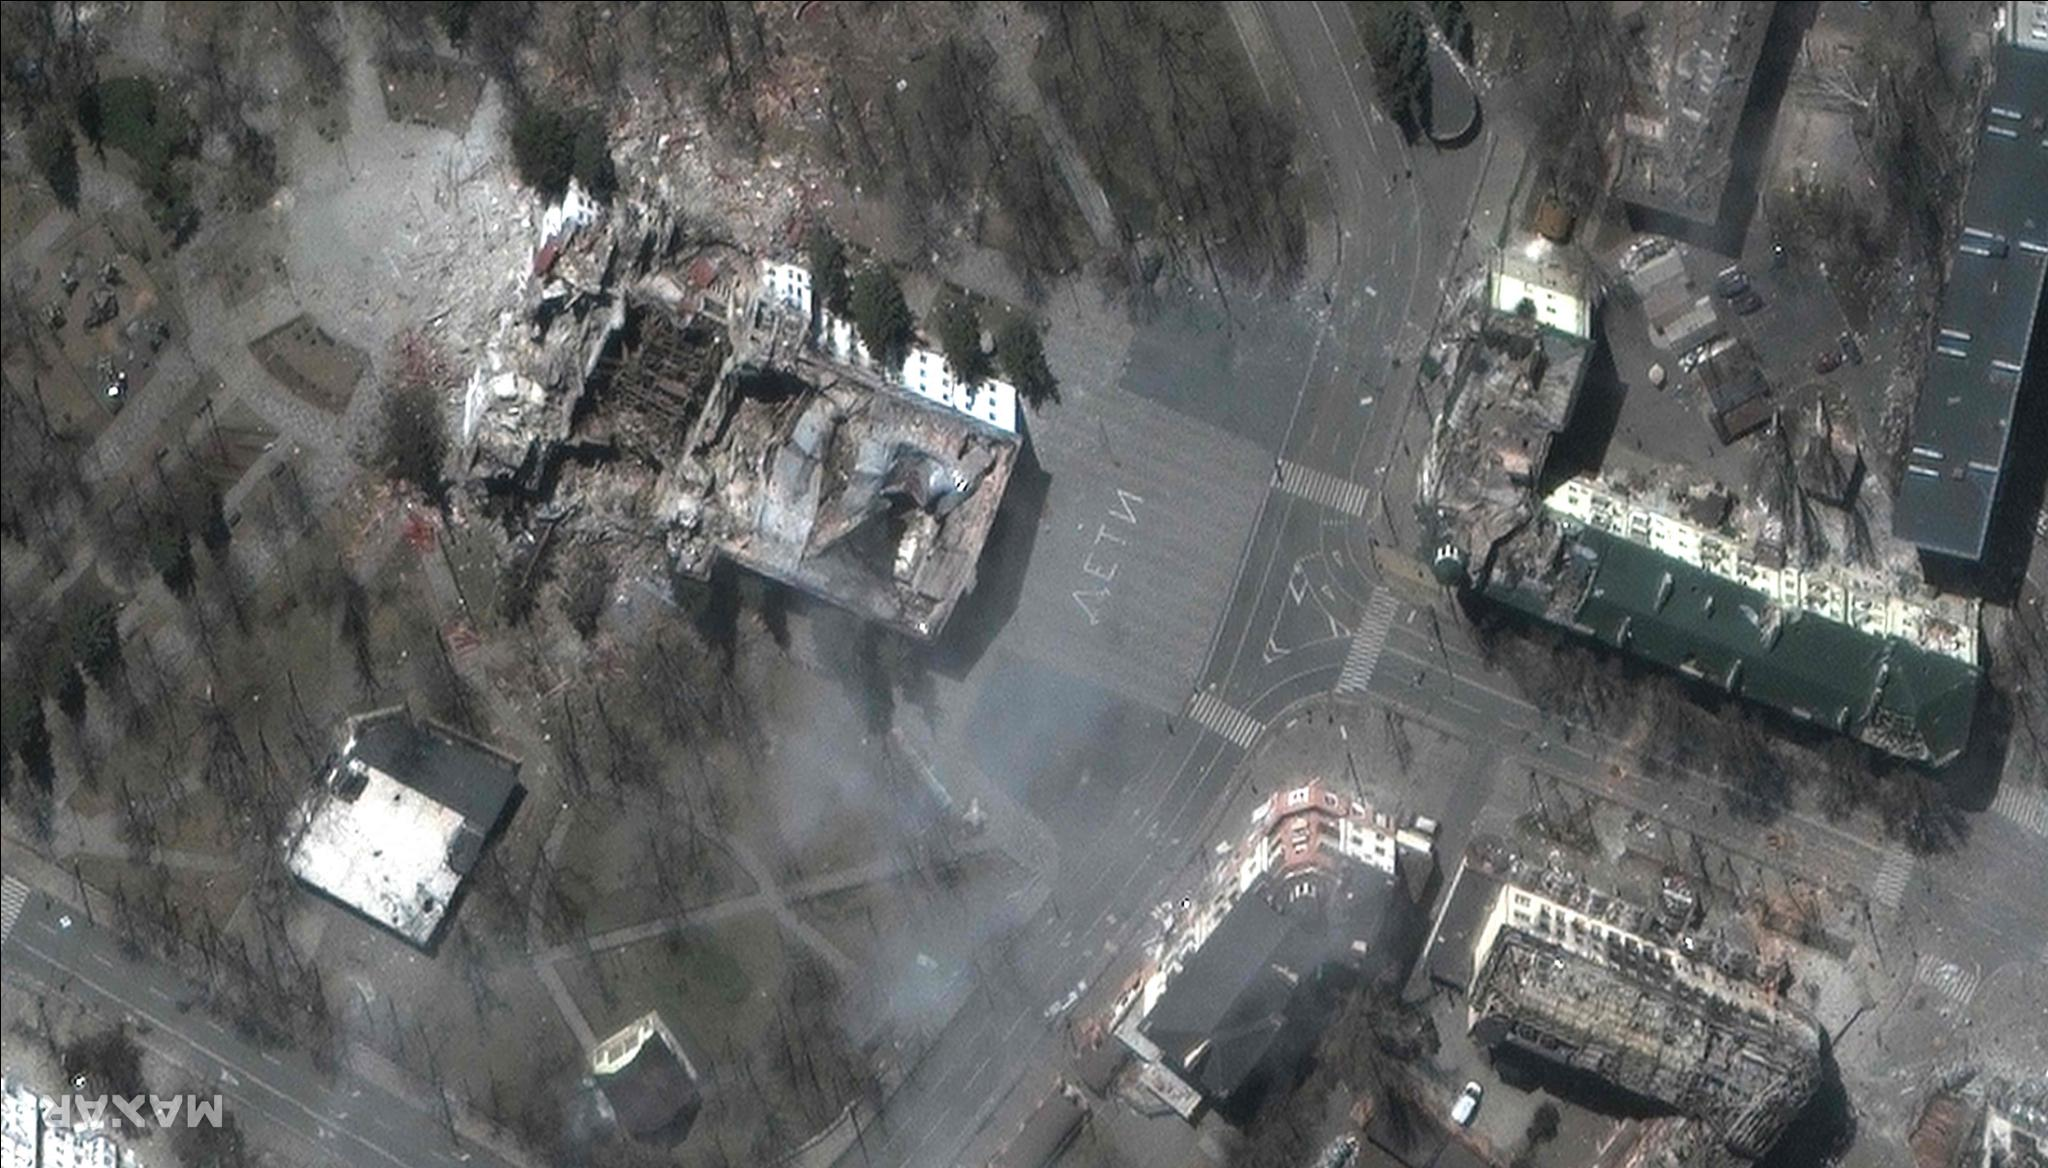demaged-building-high: (401, 179, 1018, 657)
demaged-building-medium: (1494, 888, 1819, 1168), (1402, 301, 1581, 561)
